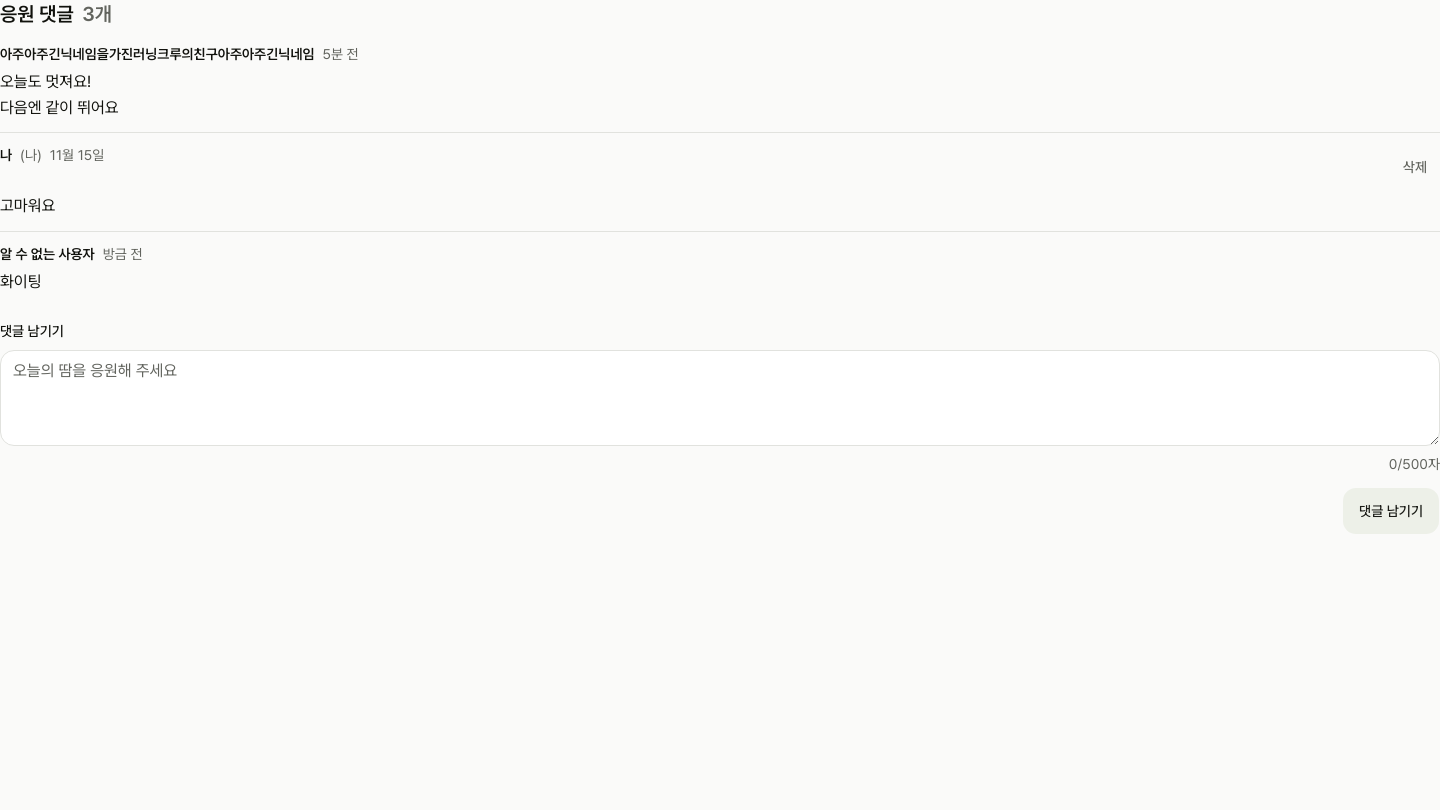
Test: WorkoutCommentsView › 삭제에 성공하면 확인 시트를 닫는다
The image size is (1440, 810).
Click the button "삭제".
click(1415, 167)  # box x1=1390 y1=145 x2=1439 y2=189
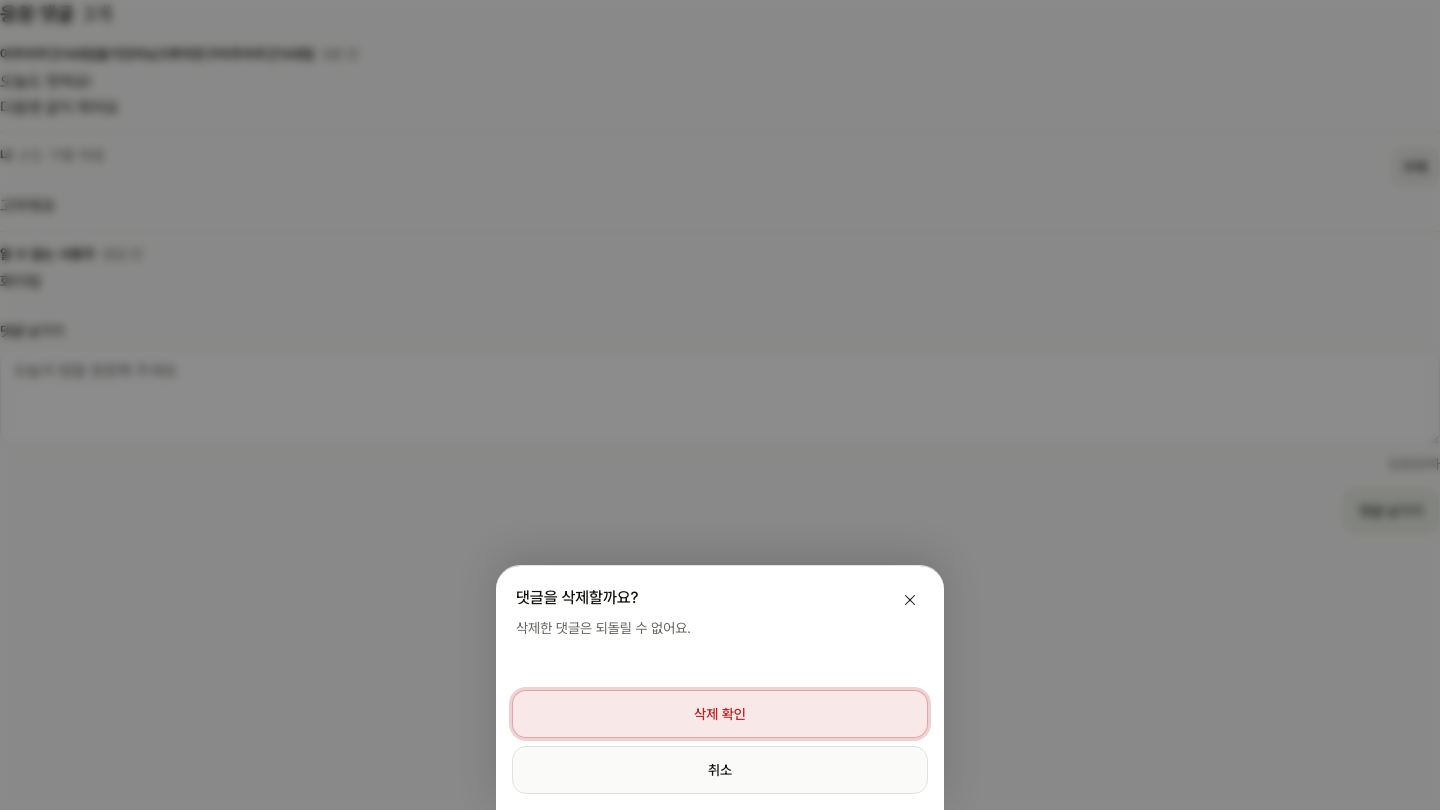
Click the button "삭제 확인".
click(720, 714)  # box x1=512 y1=690 x2=928 y2=738
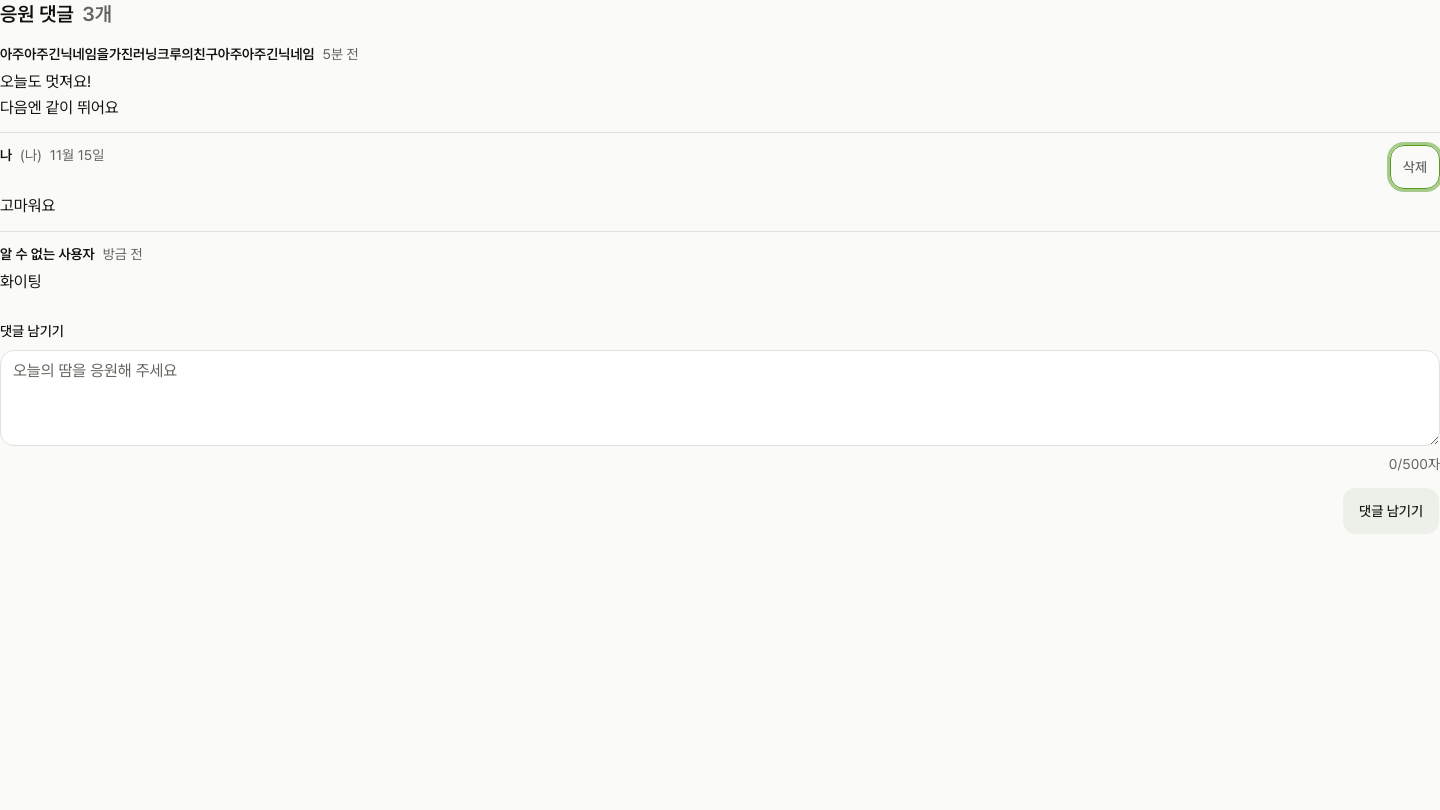
Check: the dialog is gone
